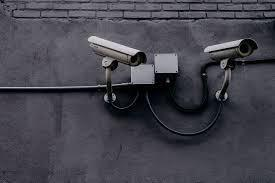tutu: (87, 28, 151, 79)
